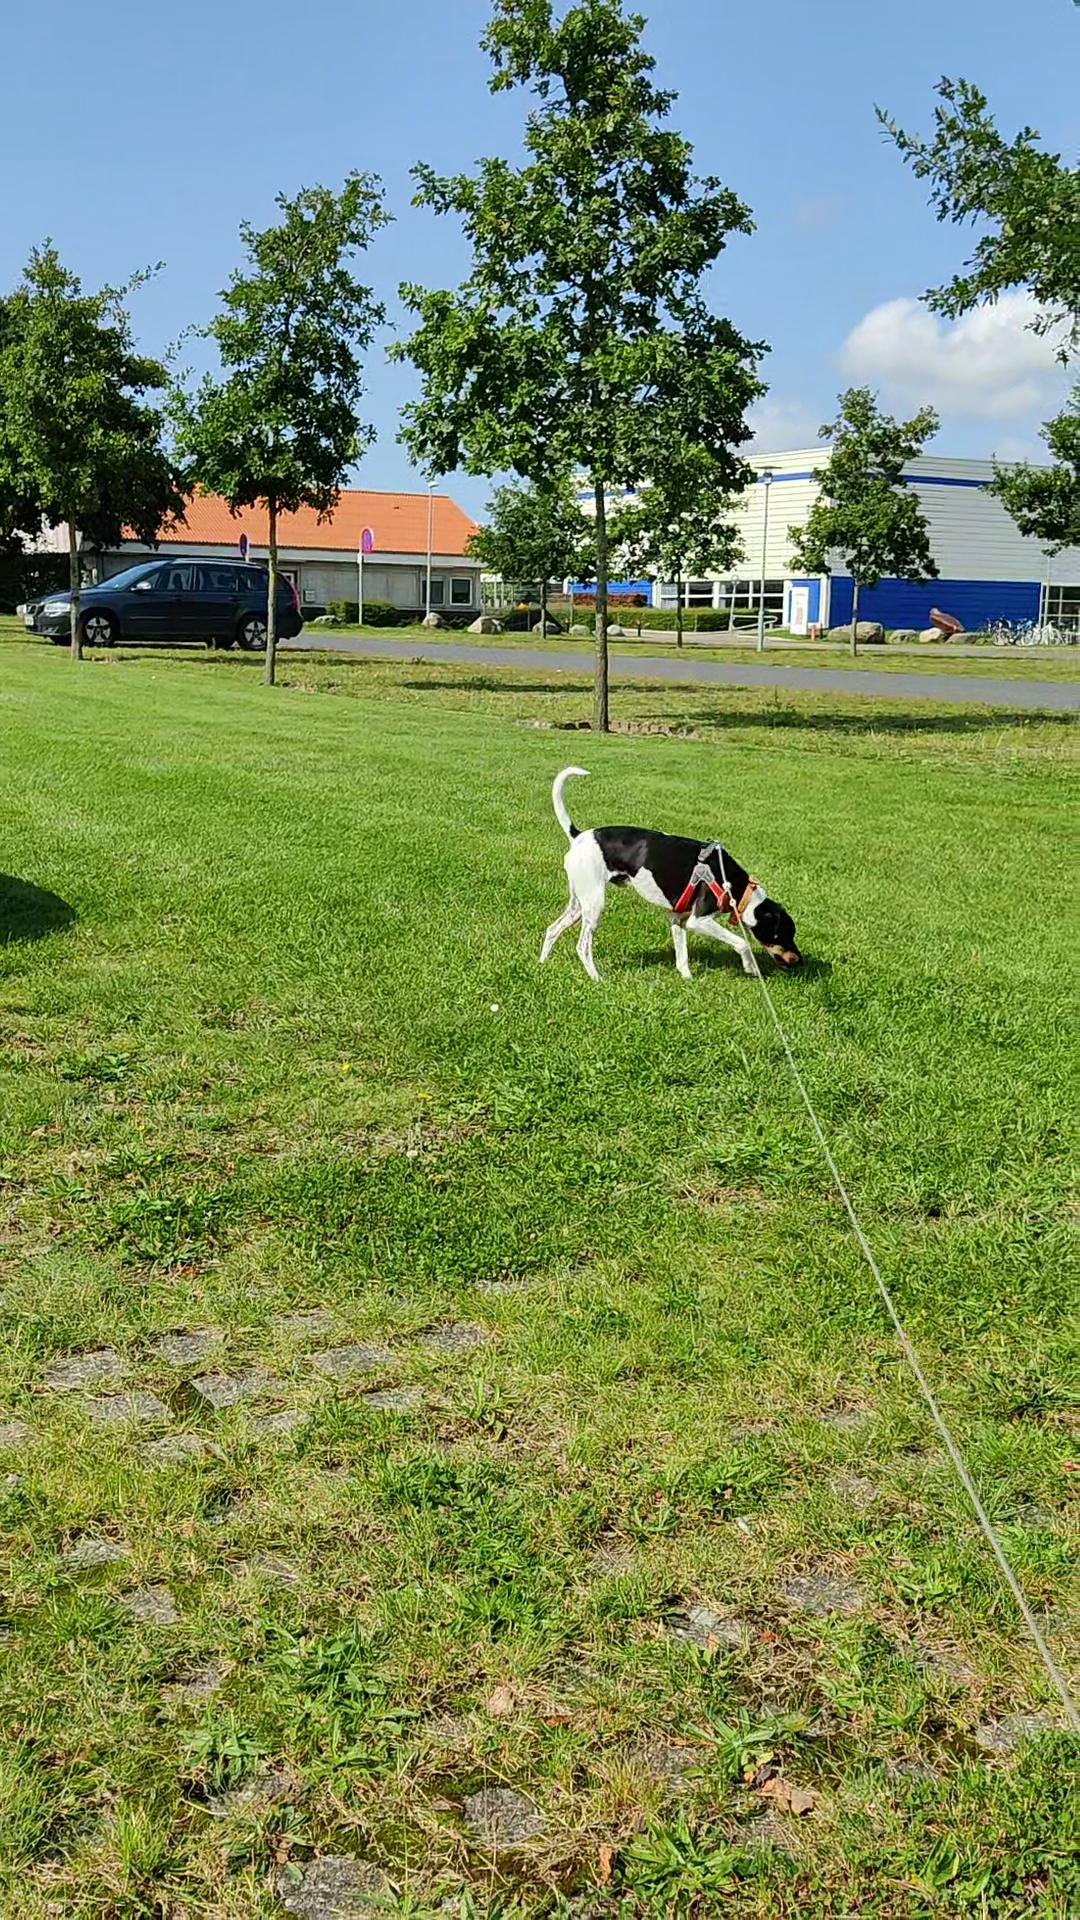Dog: (525, 753, 814, 982)
